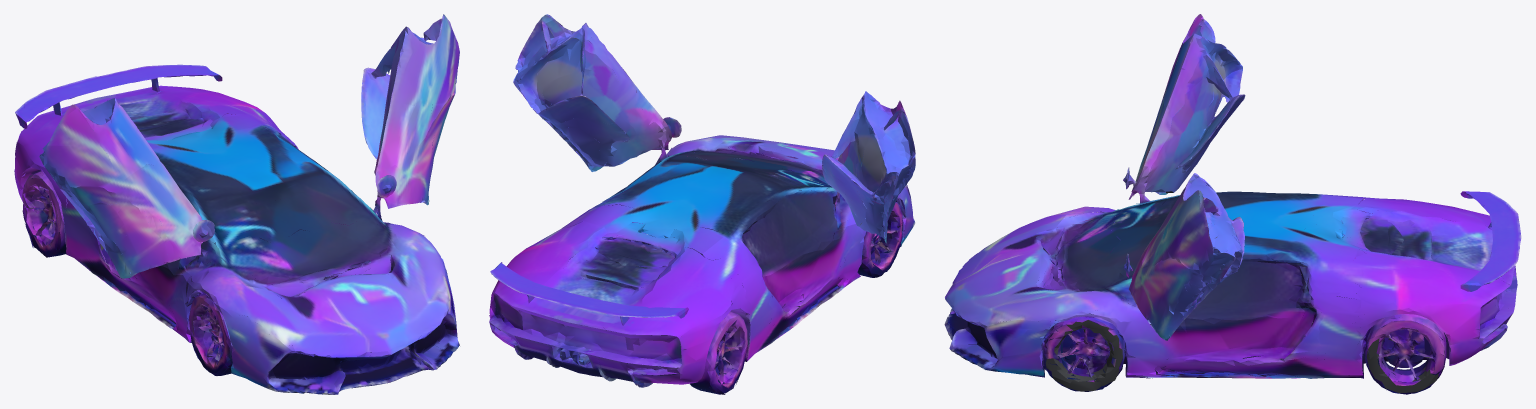
File: exotichypercar3.glb
3 views of the same model, side by side, from view 1: azimuth 30°, elevation 25°; view 2: azimuth 150°, elevation 25°; view 3: azimuth 270°, elevation 25° (orthographic). The views are drawn at different scales.
Parts seen in each view (by area): view 1: panel_bumper_f, panel_hood, panel_roof, body, panel_bumper_r, susp_front_L, panel_trunk, susp_rear_L, panel_door_L; view 2: panel_bumper_r, body, panel_roof, panel_trunk, panel_hood, panel_bumper_f, susp_rear_L, susp_front_L, panel_door_L, panel_door_R; view 3: panel_bumper_r, body, panel_bumper_f, panel_roof, panel_hood, panel_trunk, susp_front_R, susp_rear_R, tire_front_R, panel_door_R, tire_rear_R, wheel_rear_R (+1 smaller).
Boxes of the visible parts, left/top/right/bottom form: panel_bumper_f: left=196, top=214, right=458, bottom=394; panel_hood: left=117, top=101, right=435, bottom=342; panel_roof: left=39, top=14, right=459, bottom=205; body: left=85, top=113, right=383, bottom=327; panel_bumper_r: left=14, top=64, right=278, bottom=257; susp_front_L: left=106, top=250, right=245, bottom=378; panel_trunk: left=63, top=113, right=293, bottom=272; susp_rear_L: left=20, top=157, right=140, bottom=301; panel_door_L: left=60, top=189, right=126, bottom=277; panel_bumper_r: left=489, top=221, right=752, bottom=394; body: left=563, top=107, right=860, bottom=341; panel_roof: left=513, top=14, right=915, bottom=197; panel_trunk: left=562, top=204, right=774, bottom=361; panel_hood: left=598, top=86, right=887, bottom=288; panel_bumper_f: left=666, top=135, right=915, bottom=277; susp_rear_L: left=680, top=295, right=808, bottom=394; susp_front_L: left=808, top=196, right=906, bottom=315; panel_door_L: left=844, top=186, right=901, bottom=242; panel_door_R: left=539, top=104, right=607, bottom=171; panel_bumper_r: left=1349, top=191, right=1521, bottom=394; body: left=1158, top=126, right=1324, bottom=378; panel_bumper_f: left=944, top=206, right=1125, bottom=391; panel_roof: left=1161, top=14, right=1245, bottom=283; panel_hood: left=1110, top=97, right=1173, bottom=377; panel_trunk: left=1301, top=194, right=1366, bottom=377; susp_front_R: left=985, top=304, right=1255, bottom=390; susp_rear_R: left=1230, top=308, right=1479, bottom=394; tire_front_R: left=1045, top=320, right=1122, bottom=391; panel_door_R: left=1160, top=267, right=1228, bottom=339; tire_rear_R: left=1367, top=338, right=1438, bottom=393; wheel_rear_R: left=1379, top=336, right=1429, bottom=382.
Bounding box in the file's own units: 3.26 × 1.84 × 4.
Materials: 2 (1 with a texture image).
